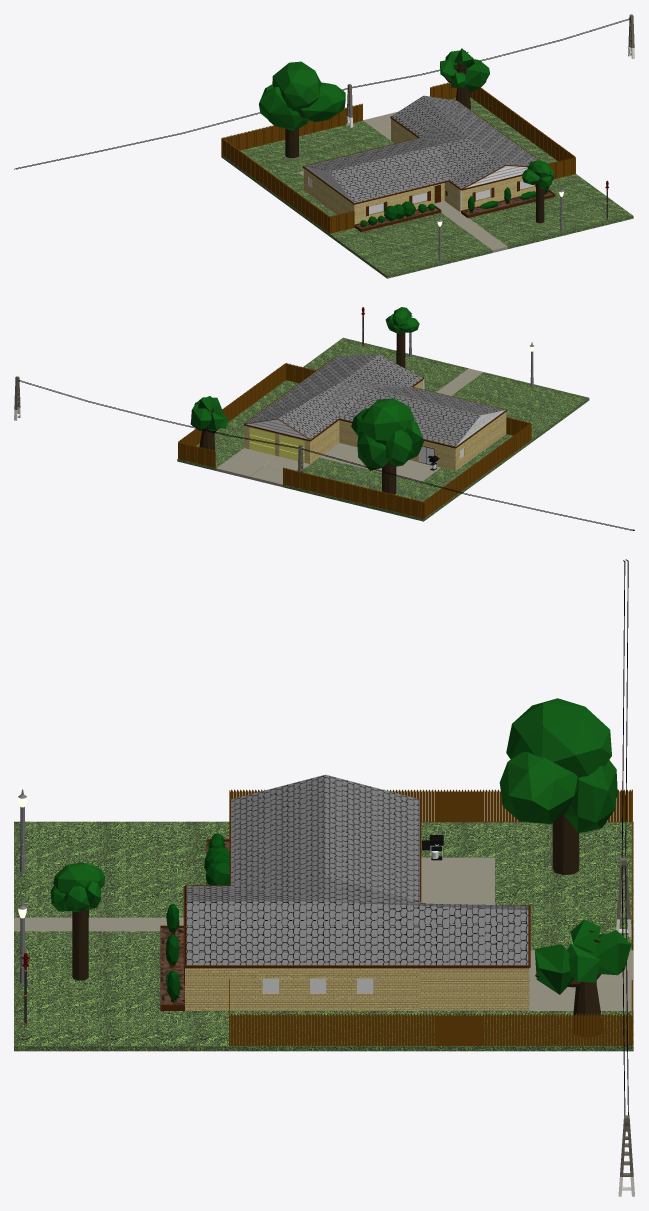
File: 123 Rainey Street.glb
The picture shows the model from 3 angles, top to bottom: view 1: azimuth 30°, elevation 25°; view 2: azimuth 150°, elevation 25°; view 3: azimuth 270°, elevation 25°; orthographic projection. The views are drawn at different scales.
Visible parts, largest first — view 1: Ground, Roof, Fence, Leaves.002, Exterior Walls, Leaves.001, Shrubbery, Trunk, LV Wires.007, Walway, Leaves, Flower Bed (+4 smaller); view 2: Ground, Roof, Fence, Leaves.002, Exterior Walls, Driveway, Patio, LV Wires.007, Trunk, Garage Doors, Leaves.001, Leaves (+2 smaller); view 3: Ground, Roof, Fence, Exterior Walls, Leaves.002, Leaves.001, Trunk, Patio, Driveway, Leaves, Shrubbery, Walway (+4 smaller).
Part boxes in pixels (bbox=[...]): Ground: bbox=[221, 97, 633, 278]; Roof: bbox=[302, 95, 538, 204]; Fence: bbox=[221, 82, 575, 233]; Leaves.002: bbox=[259, 61, 345, 130]; Exterior Walls: bbox=[303, 118, 548, 224]; Leaves.001: bbox=[440, 48, 489, 92]; Shrubbery: bbox=[360, 187, 548, 227]; Trunk: bbox=[285, 50, 544, 223]; LV Wires.007: bbox=[14, 18, 630, 169]; Walway: bbox=[434, 201, 507, 252]; Leaves: bbox=[522, 160, 553, 189]; Flower Bed: bbox=[461, 189, 555, 217]; Ground: bbox=[177, 337, 589, 521]; Roof: bbox=[244, 354, 506, 448]; Fence: bbox=[178, 363, 531, 518]; Leaves.002: bbox=[351, 398, 423, 470]; Exterior Walls: bbox=[244, 380, 506, 470]; Driveway: bbox=[216, 448, 309, 486]; Patio: bbox=[319, 443, 440, 482]; LV Wires.007: bbox=[18, 380, 634, 530]; Trunk: bbox=[195, 332, 405, 494]; Garage Doors: bbox=[250, 427, 304, 462]; Leaves.001: bbox=[190, 396, 228, 430]; Leaves: bbox=[385, 307, 419, 333]; Ground: bbox=[14, 821, 633, 1051]; Roof: bbox=[183, 774, 530, 968]; Fence: bbox=[229, 789, 632, 1045]; Exterior Walls: bbox=[185, 968, 529, 1010]; Leaves.002: bbox=[499, 698, 617, 832]; Leaves.001: bbox=[535, 919, 631, 994]; Trunk: bbox=[72, 814, 601, 1036]; Patio: bbox=[421, 857, 494, 904]; Driveway: bbox=[529, 950, 633, 1010]; Leaves: bbox=[50, 862, 105, 911]; Shrubbery: bbox=[165, 833, 229, 1002]; Walway: bbox=[14, 917, 183, 931].
Size of what is drawn, in the model's own units: 74.74 by 10.82 by 34.74.
41 materials, 6 textured.
